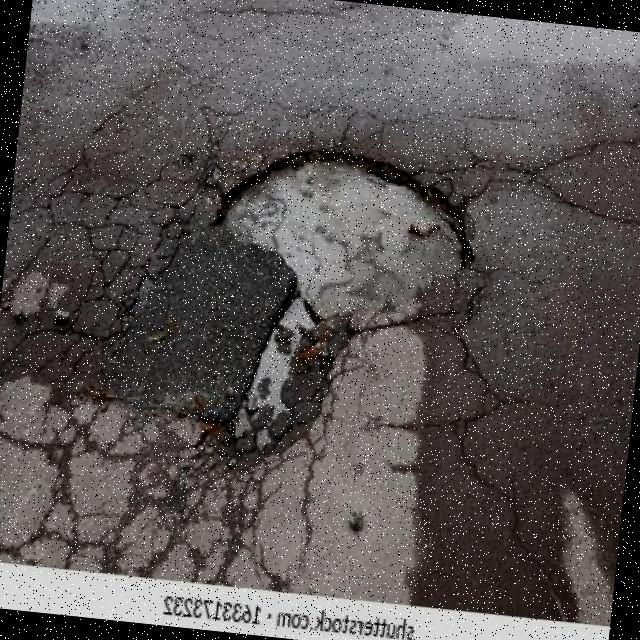Pothole: (193, 152, 486, 457)
